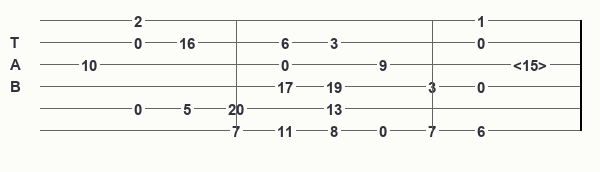0: (134, 101, 146, 116), (134, 35, 146, 50), (281, 57, 293, 72), (379, 123, 391, 138), (477, 79, 489, 94), (477, 35, 489, 50)
1: (477, 13, 489, 28)
10: (81, 57, 101, 72)
11: (277, 123, 297, 138)
13: (326, 101, 346, 116)
16: (179, 35, 199, 50)
17: (277, 79, 297, 94)
19: (326, 79, 346, 94)
2: (134, 13, 146, 28)
20: (228, 101, 248, 116)
3: (330, 35, 342, 50), (428, 79, 440, 94)
5: (183, 101, 195, 116)
6: (281, 35, 293, 50), (477, 123, 489, 138)
7: (232, 123, 244, 138), (428, 123, 440, 138)
8: (330, 123, 342, 138)
9: (379, 57, 391, 72)
harmonic: (513, 57, 551, 72)
